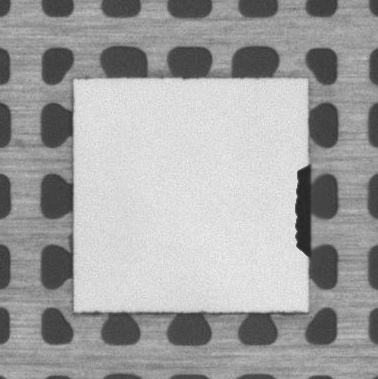DIE_BROKEN: (292, 161, 313, 259)
